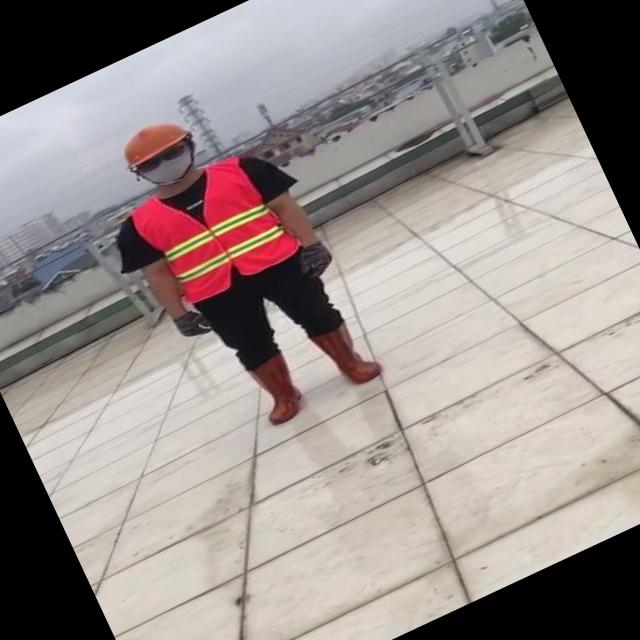hard_hat: (114, 109, 195, 171)
safety_vest: (126, 147, 302, 314)
vehicle: (77, 70, 400, 455)
work_boots: (310, 314, 388, 396), (242, 348, 314, 430)
